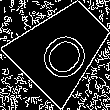O_NE: (29, 14, 96, 81)
